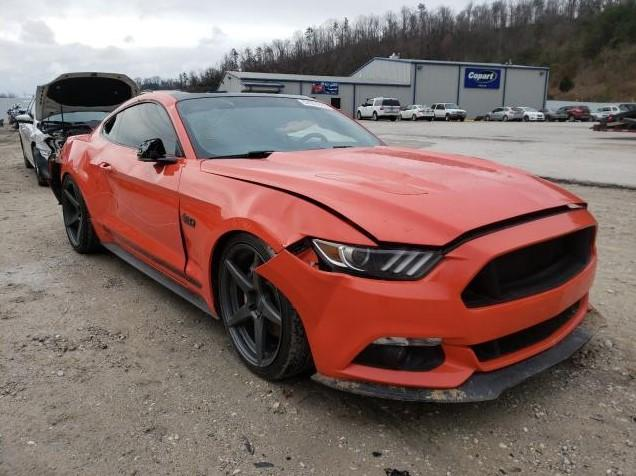Back-wheel: (62, 177, 94, 254)
Fender: (179, 159, 377, 291)
Front-bumper: (255, 209, 601, 390)
Front-door: (81, 97, 187, 279)
Front-wheel: (212, 233, 311, 382)
Front-window: (97, 101, 186, 158)
Grille: (463, 230, 592, 307)
Headlight: (312, 238, 440, 279)
Hood: (201, 145, 586, 245)
Mirror: (137, 138, 177, 174)
Quarter-panel: (60, 134, 99, 224)
Rocker-panel: (92, 224, 219, 319)
Roof: (173, 93, 322, 103)
Windshield: (175, 97, 385, 159)
